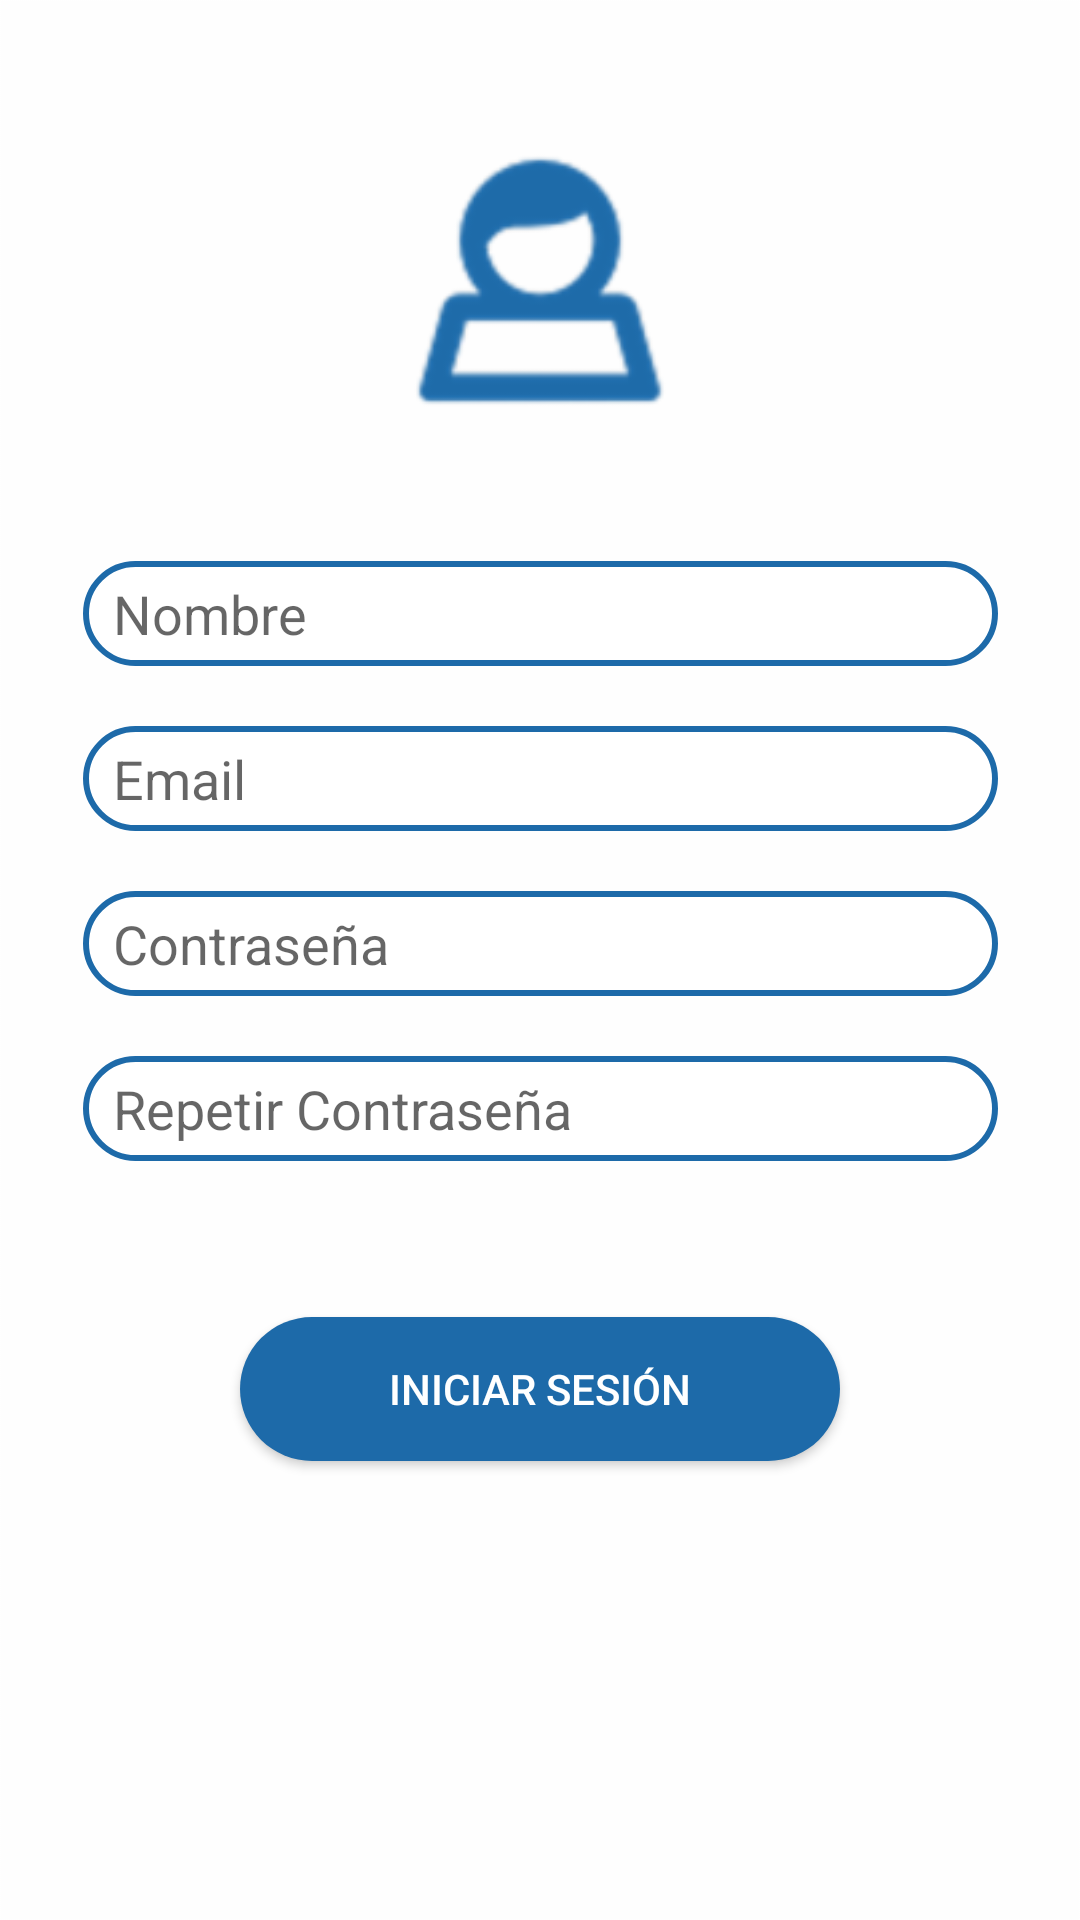

Locate icon controls on the screen. Image size 1080×1920, boxes as (x1=x1, y1=y1, x2=x2, y2=y2).
user: (x1=417, y1=158, x2=662, y2=404)
